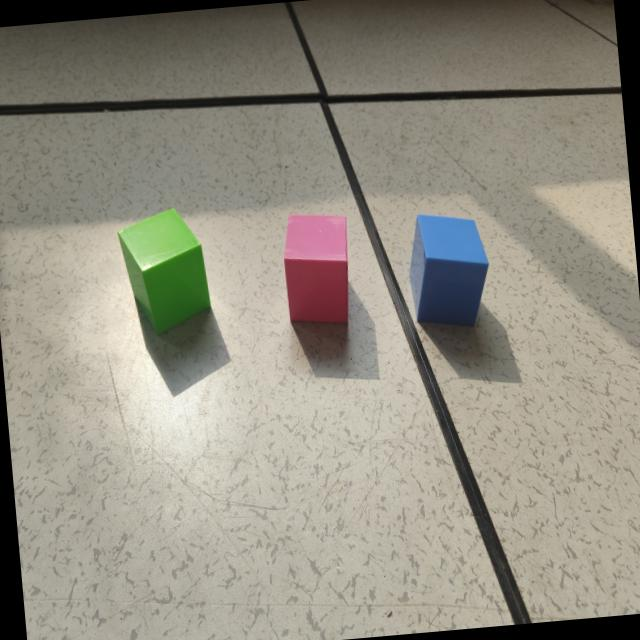blue: (408, 214, 489, 328)
green: (117, 210, 211, 339)
pink: (282, 215, 350, 327)
